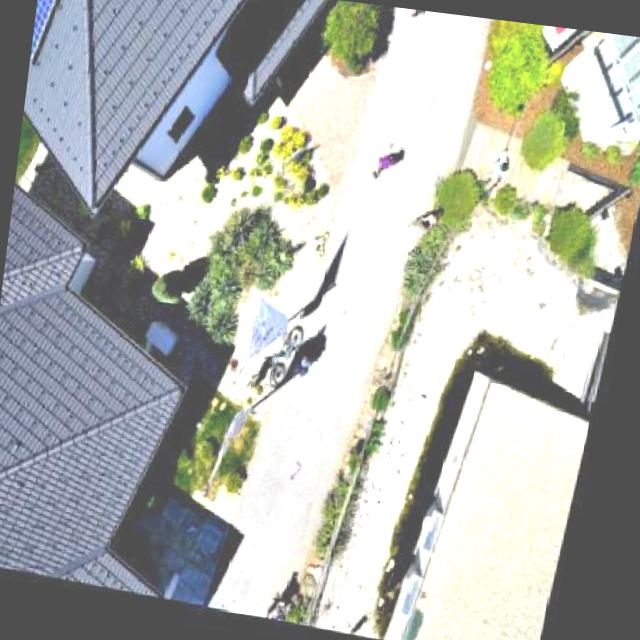Person: (363, 138, 415, 194), (483, 140, 528, 192), (412, 200, 456, 238), (396, 7, 429, 29)
